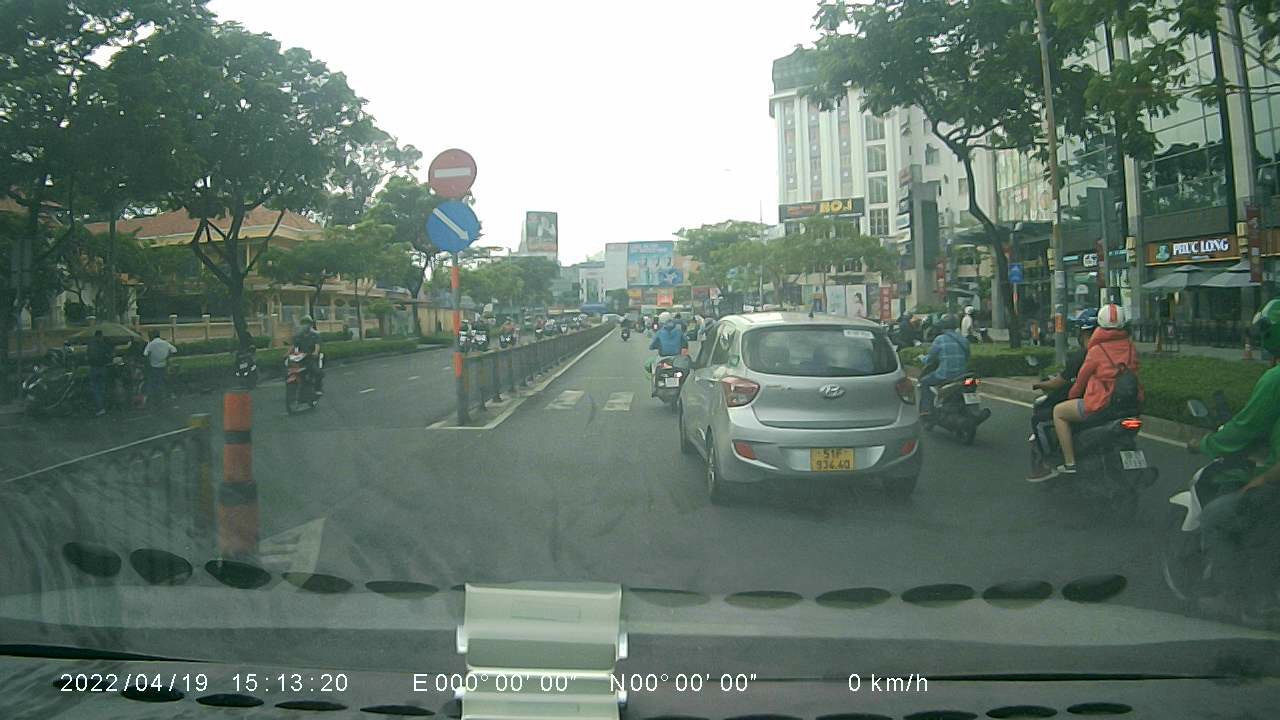Cam di nguoc chieu: (426, 146, 480, 198)
Huong di phai re phai: (424, 202, 480, 252)
